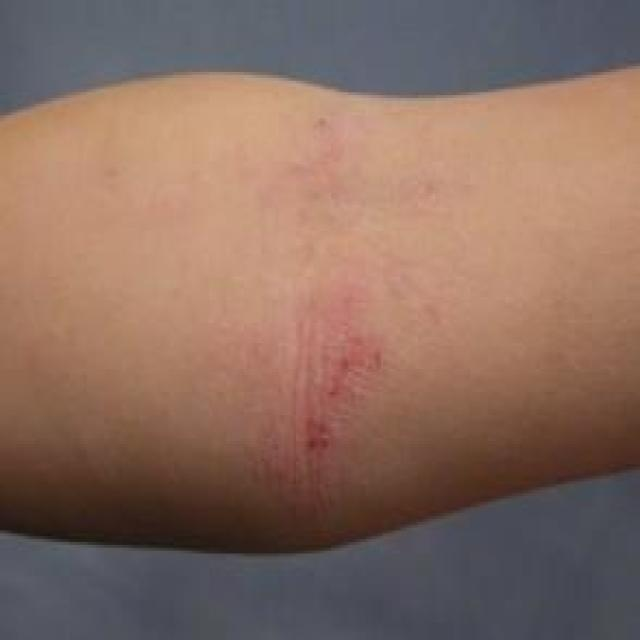Eczema: (261, 116, 391, 475)
